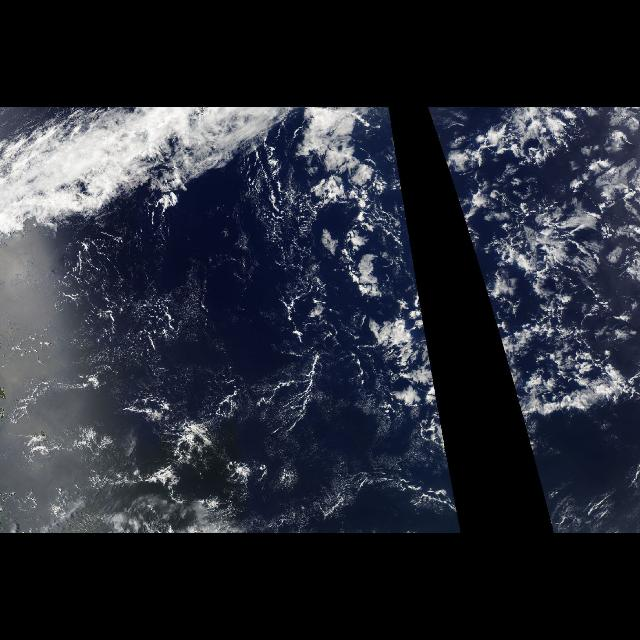Gravel: (427, 109, 599, 439), (318, 109, 444, 439), (15, 378, 271, 526)
Sugar: (46, 244, 242, 388)
